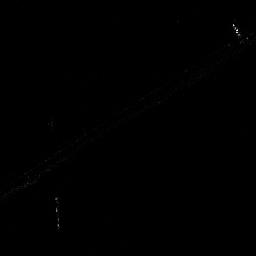ship: (229, 21, 248, 46), (54, 194, 62, 232)
